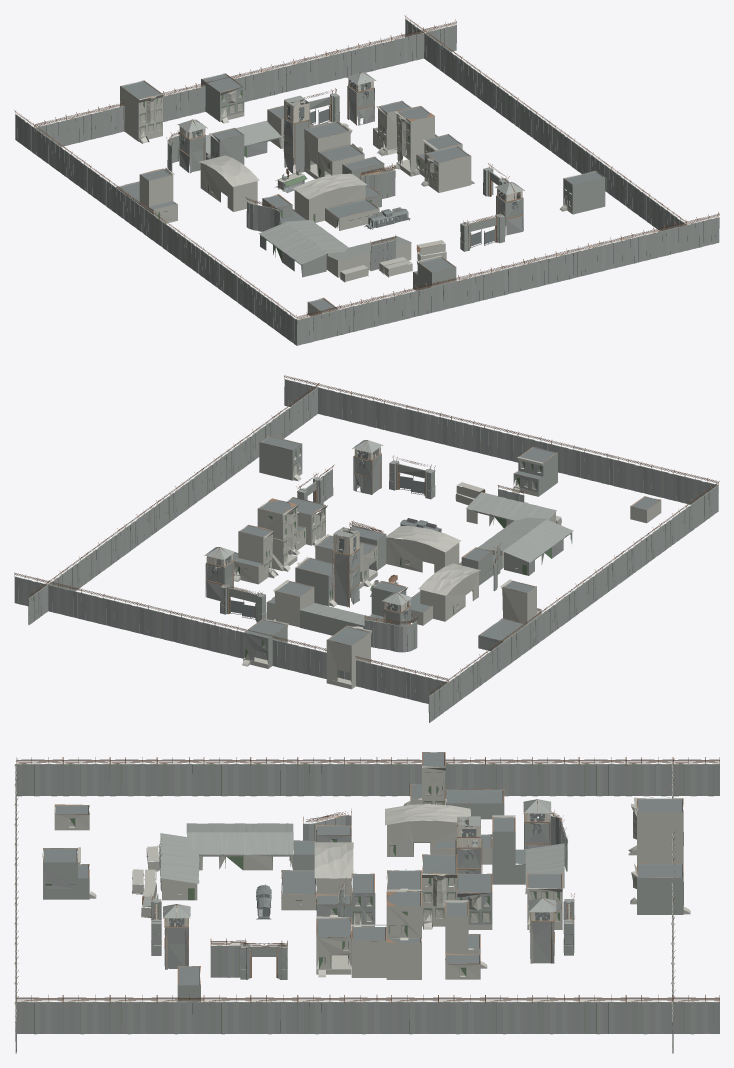
File: compound.glb
The picture shows the model from 3 angles, top to bottom: view 1: azimuth 30°, elevation 25°; view 2: azimuth 150°, elevation 25°; view 3: azimuth 270°, elevation 25°; orthographic projection. The views are drawn at different scales.
Parts seen in each view (by area): view 1: compound_wall_s_150_LOD0, shipping_container_900_a_junkyard, watch_tower_d_LOD0; view 2: compound_wall_s_150_LOD0, shipping_container_900_a_junkyard, watch_tower_d_LOD0; view 3: compound_wall_s_150_LOD0, shipping_container_900_a_junkyard, watch_tower_d_LOD0.
Boxes of the visible parts, x1,y1,x2,y2 form: compound_wall_s_150_LOD0: (14,15,719,345); shipping_container_900_a_junkyard: (120,86,572,316); watch_tower_d_LOD0: (118,73,603,311); compound_wall_s_150_LOD0: (14,375,719,722); shipping_container_900_a_junkyard: (234,452,661,689); watch_tower_d_LOD0: (206,436,659,645); compound_wall_s_150_LOD0: (14,752,719,1053); shipping_container_900_a_junkyard: (54,766,690,979); watch_tower_d_LOD0: (43,752,682,985).
Size of the model in its own units: 157 by 25.35 by 181.
